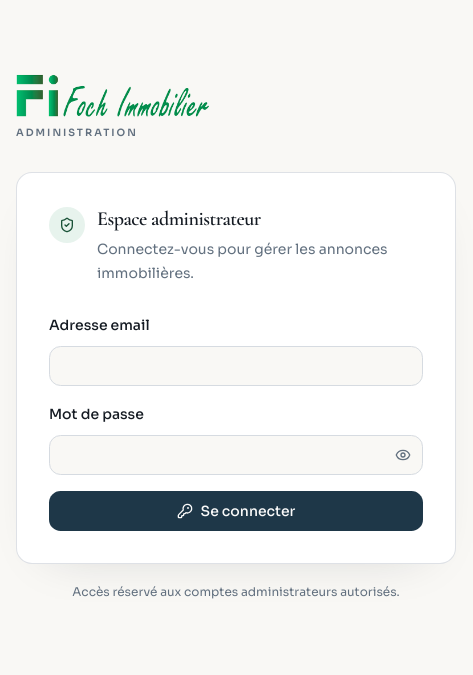
it: admin login validation › preserves credentials and gives a generic recovery message for authentication errors
expect the heading "Espace administrateur" is shown: met, box left=97, top=207, right=261, bottom=231
Type "admin@example.fr" into the field labelled "Adresse email" at (236, 366), box left=49, top=346, right=423, bottom=386
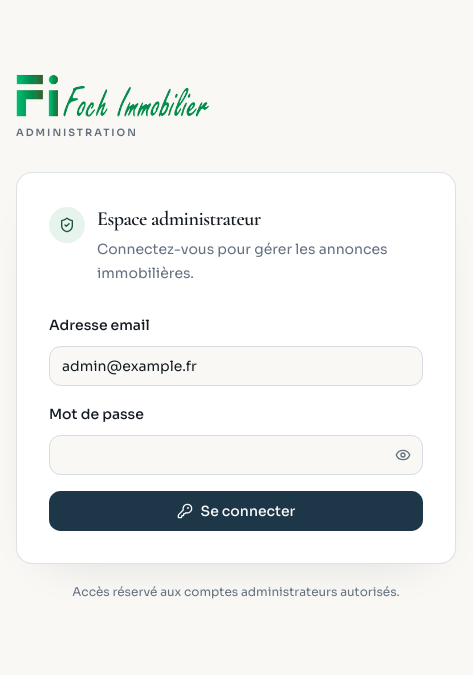
Type "correct horse battery staple" into the password field labelled "Mot de passe" at (236, 455), box left=49, top=435, right=423, bottom=475
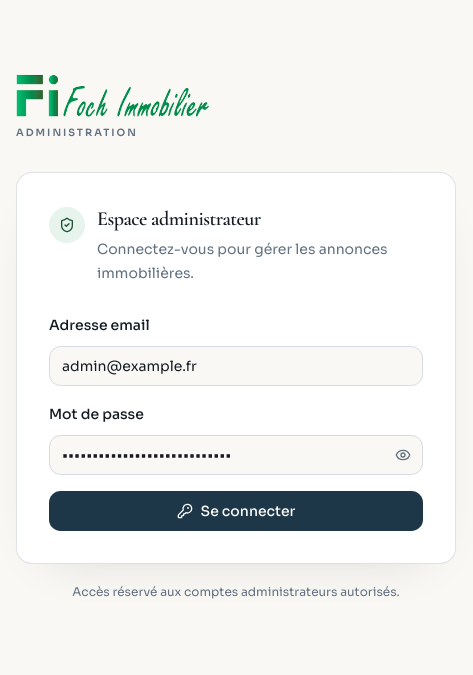
Submit the form "Se connecter", box left=49, top=313, right=423, bottom=531
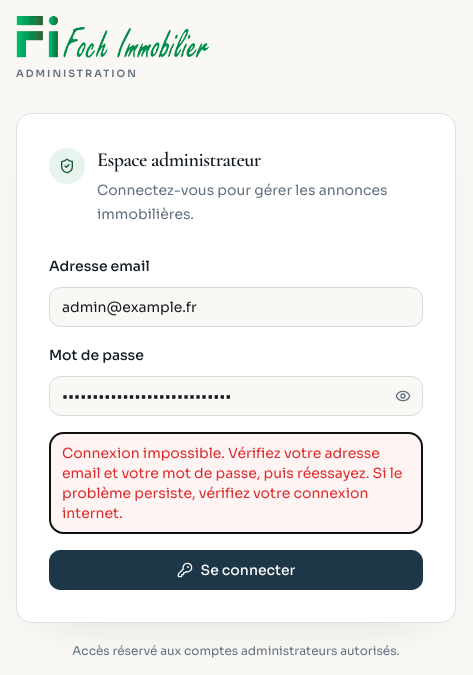
expect the message does not show "Invalid login credentials": met, box left=49, top=432, right=423, bottom=534
expect the message shows "Vérifiez votre adresse email et votre mot de passe": met, box left=62, top=444, right=402, bottom=522
Type "updated password" into the password field labelled "Mot de passe" at (236, 396), box left=49, top=376, right=423, bottom=416
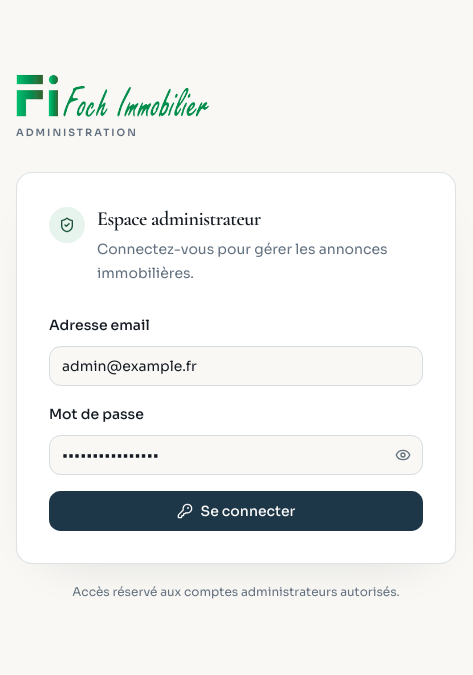
expect the message is gone: met
